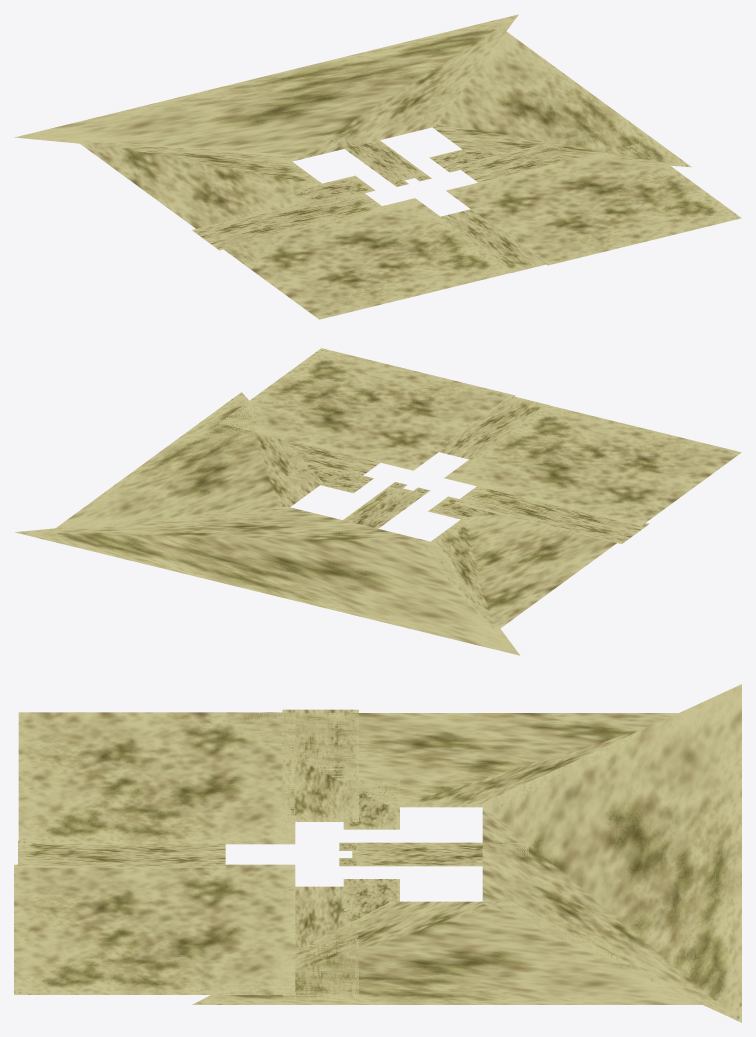
The model's file is LV8Nav.fbx.
3 views of the same model, one above another, from view 1: azimuth 30°, elevation 25°; view 2: azimuth 150°, elevation 25°; view 3: azimuth 270°, elevation 25° (orthographic). The views are drawn at different scales.
Visible parts, largest first — view 1: polySurface158; view 2: polySurface158; view 3: polySurface158.
Part boxes in pixels (bbox=[...]): polySurface158: bbox=[14, 14, 741, 319]; polySurface158: bbox=[15, 348, 741, 655]; polySurface158: bbox=[14, 684, 741, 1022].
Size of the model in its own units: 1160 by 0 by 1053.
